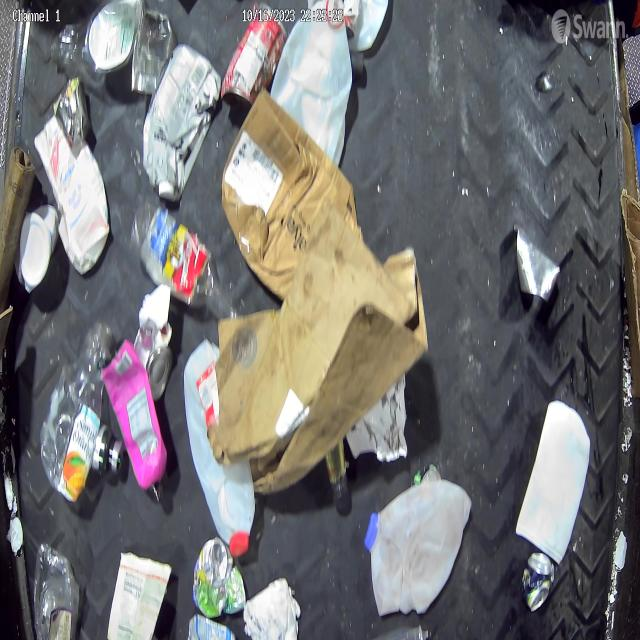can: (221, 3, 288, 106), (194, 535, 248, 618), (132, 9, 177, 95), (517, 225, 562, 304), (134, 318, 174, 402), (54, 76, 90, 144), (346, 0, 390, 53), (522, 551, 556, 610)
milk_jug: (183, 337, 256, 557), (364, 478, 473, 618), (270, 0, 352, 167)
non_white_jug: (144, 43, 222, 201)
plastic_bottle: (39, 318, 119, 505), (134, 201, 225, 312)
